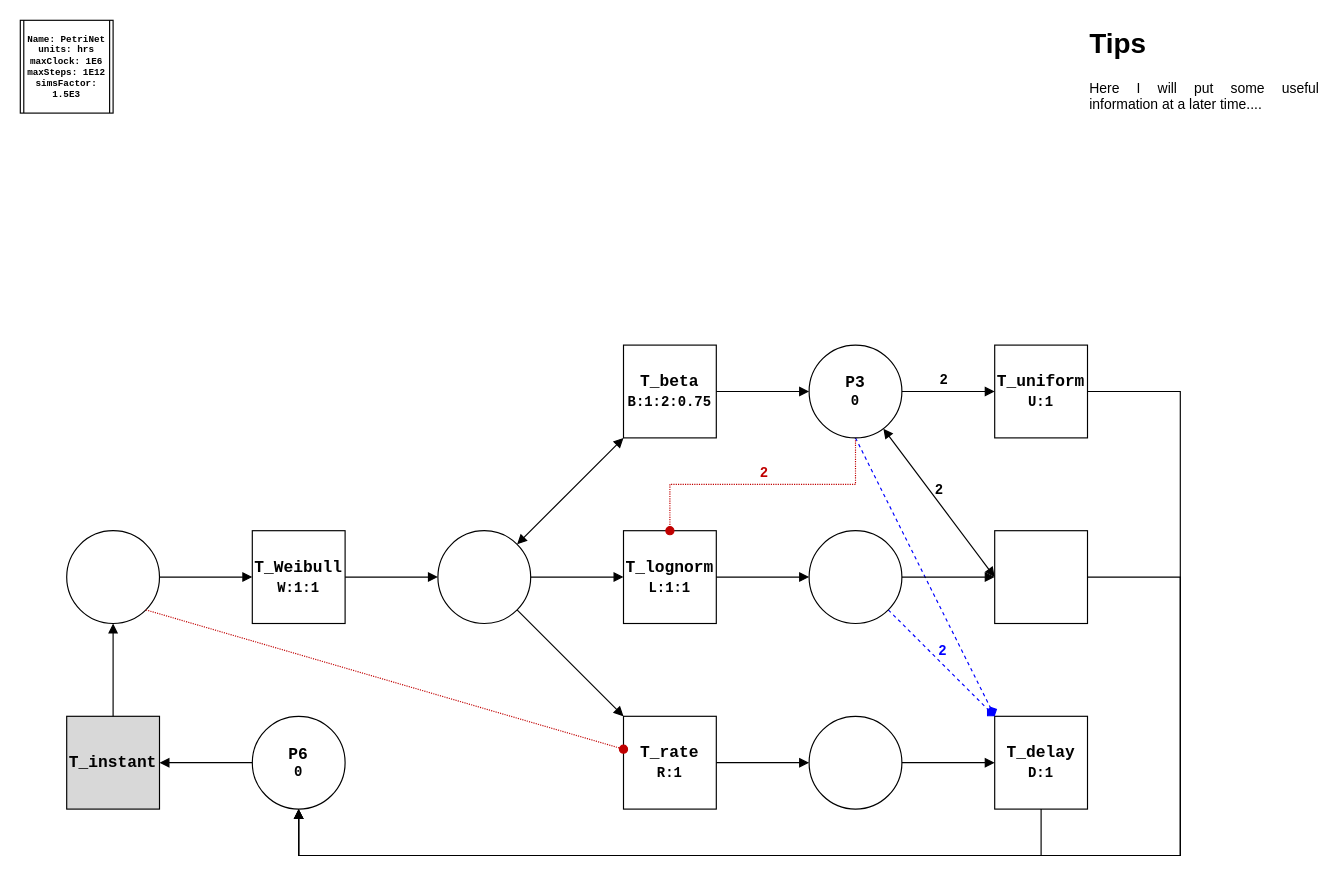
Some shapes in this 1340 by 885 pixel diagram are drawn without their labels. The shapes that lost their labels are listed below. From the top down, each one's centre as x and y in pixels, then its label:
point (113, 577): P1 1
point (484, 577): P2 0
point (855, 577): P4 0
point (1041, 577): T_cyclic C:1:0
point (855, 762): P5 0
